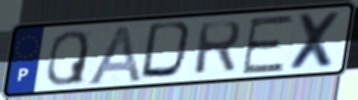A: (83, 23, 144, 87)
D: (137, 19, 198, 82)
E: (239, 13, 297, 76)
Q: (44, 28, 90, 87)
R: (191, 19, 244, 77)
X: (287, 10, 345, 72)
